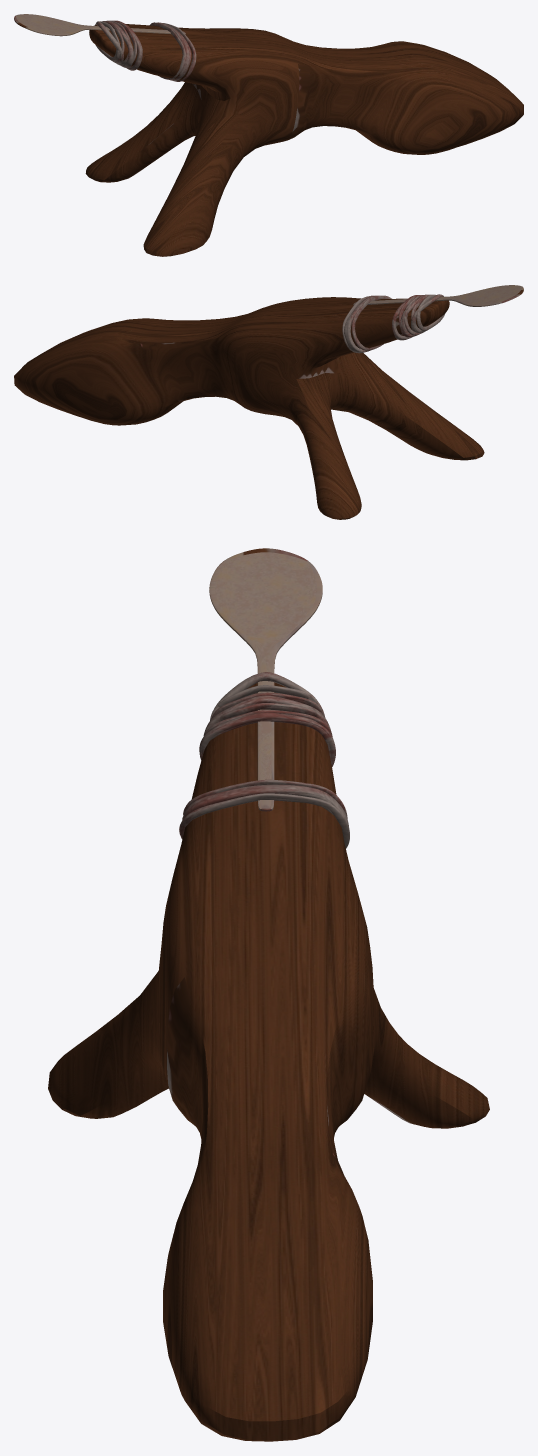
File: KudkuranNiyog.fbx
The picture shows the model from 3 angles, top to bottom: view 1: azimuth 30°, elevation 25°; view 2: azimuth 150°, elevation 25°; view 3: azimuth 270°, elevation 25°; orthographic projection. The views are drawn at different scales.
Parts seen in each view (by area): view 1: Torus.001; view 2: Torus.001; view 3: Torus.001.
Boxes of the visible parts, x1,y1,x2,y2 form: Torus.001: (14, 14, 523, 256); Torus.001: (14, 285, 523, 519); Torus.001: (48, 548, 489, 1441).
Bounding box in the file's own units: 328 × 139 × 127.
Materials: 1 (1 with a texture image).
